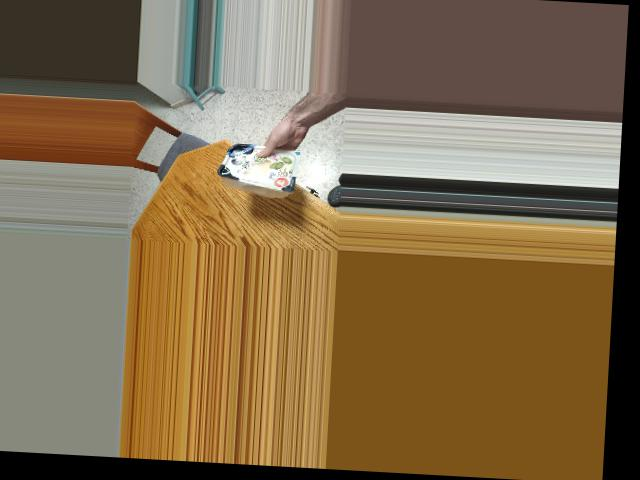cheese: (221, 134, 297, 194)
